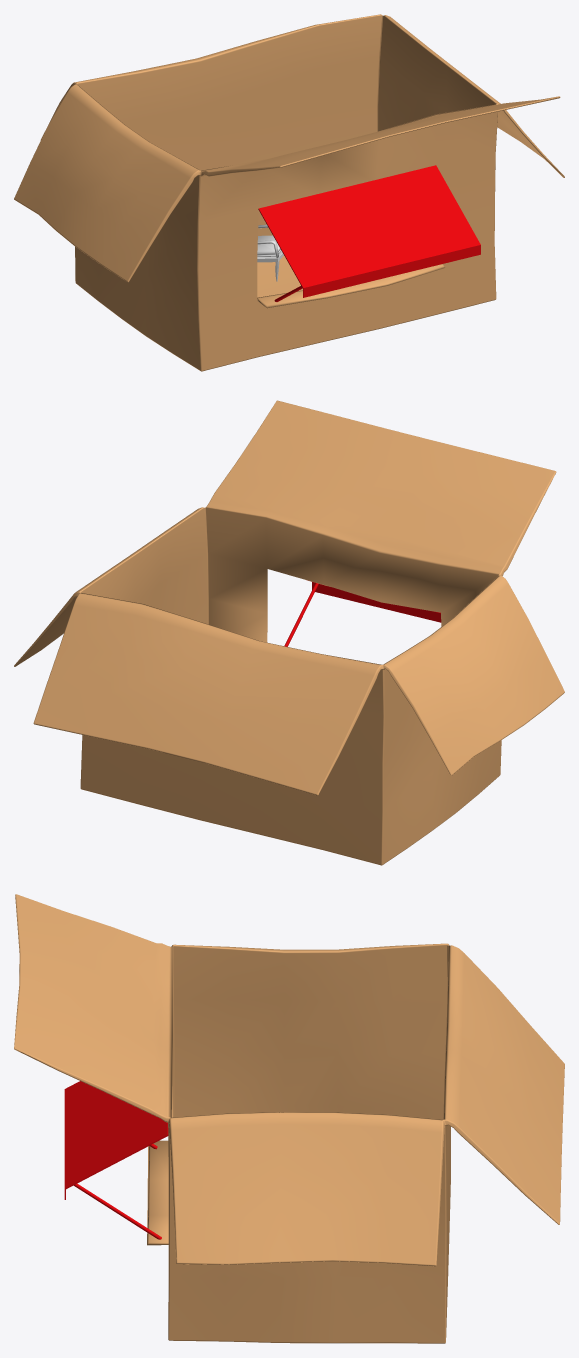
The model's file is TIENDA.fbx.
3 renders of one model, top to bottom at view 1: azimuth 30°, elevation 25°; view 2: azimuth 150°, elevation 25°; view 3: azimuth 270°, elevation 25°, orthographic. The views are drawn at different scales.
Parts seen in each view (by area): view 1: Box.001, Toldo; view 2: Box.001, Toldo; view 3: Box.001, Toldo.
Boxes of the visible parts, x1,y1,x2,y2 form: Box.001: [14, 14, 564, 371]; Toldo: [258, 165, 480, 297]; Box.001: [14, 400, 564, 865]; Toldo: [308, 580, 441, 622]; Box.001: [14, 894, 564, 1343]; Toldo: [64, 1081, 168, 1199].
Size of the model in its own units: 75.21 by 41.55 by 70.18.
